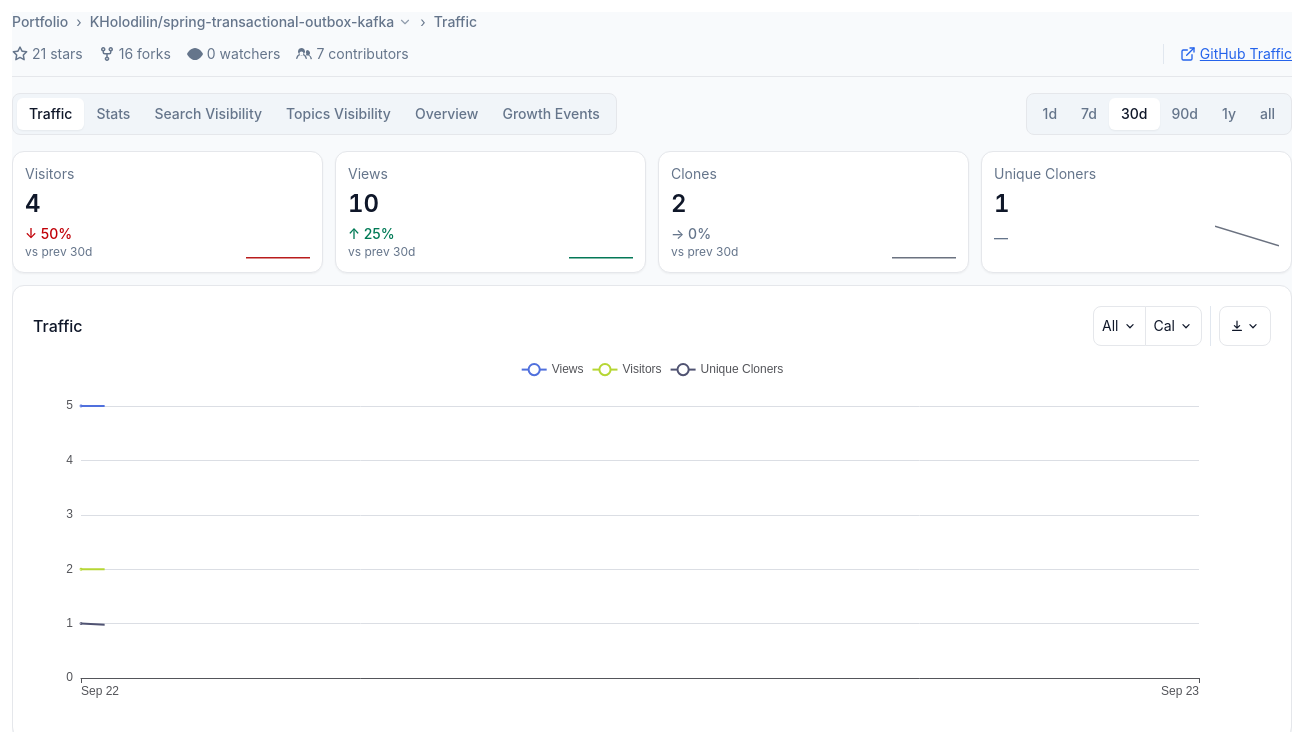
Scenario: remaining coverage edges › covers partial collection jobs and a failed growth-event load
Expected: the link "GitHub Traffic" is shown, [1180,44,1292,64]
Click the button "Overview".
click(447, 114)  # box [403,98,490,130]
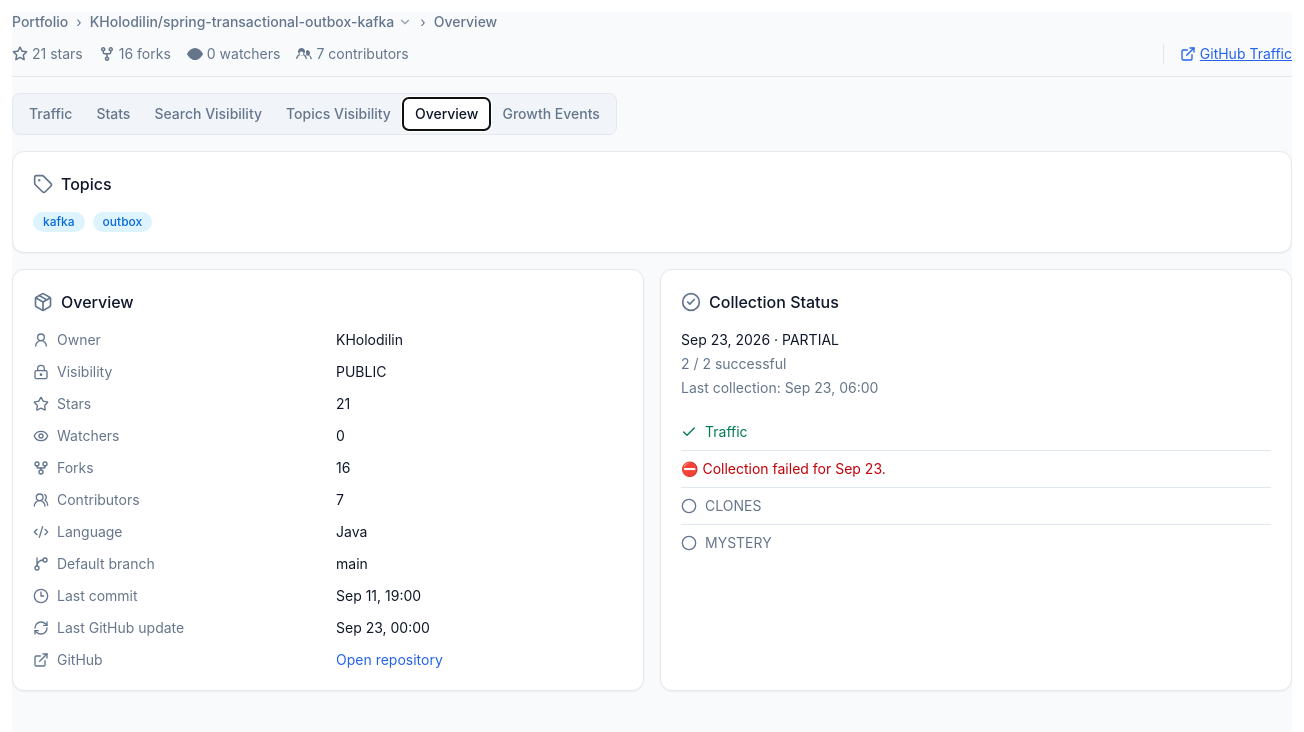
Expected: the text "MYSTERY" is shown, [705,533,772,553]
Click the button "Search Visibility".
click(208, 114)  # box [142,98,274,130]
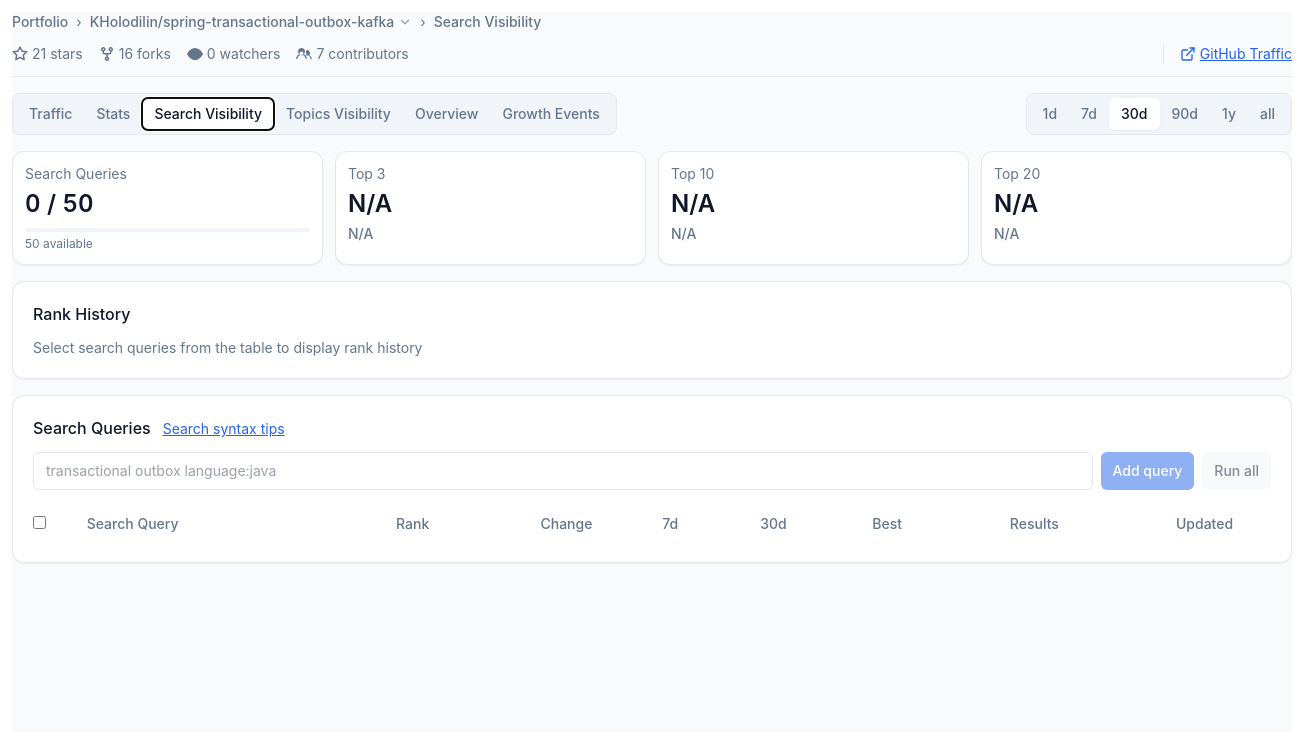
Expected: the heading "Search Queries" is shown, [33,416,151,440]
Click the button "Topics Visibility".
click(338, 114)  # box [274,98,403,130]
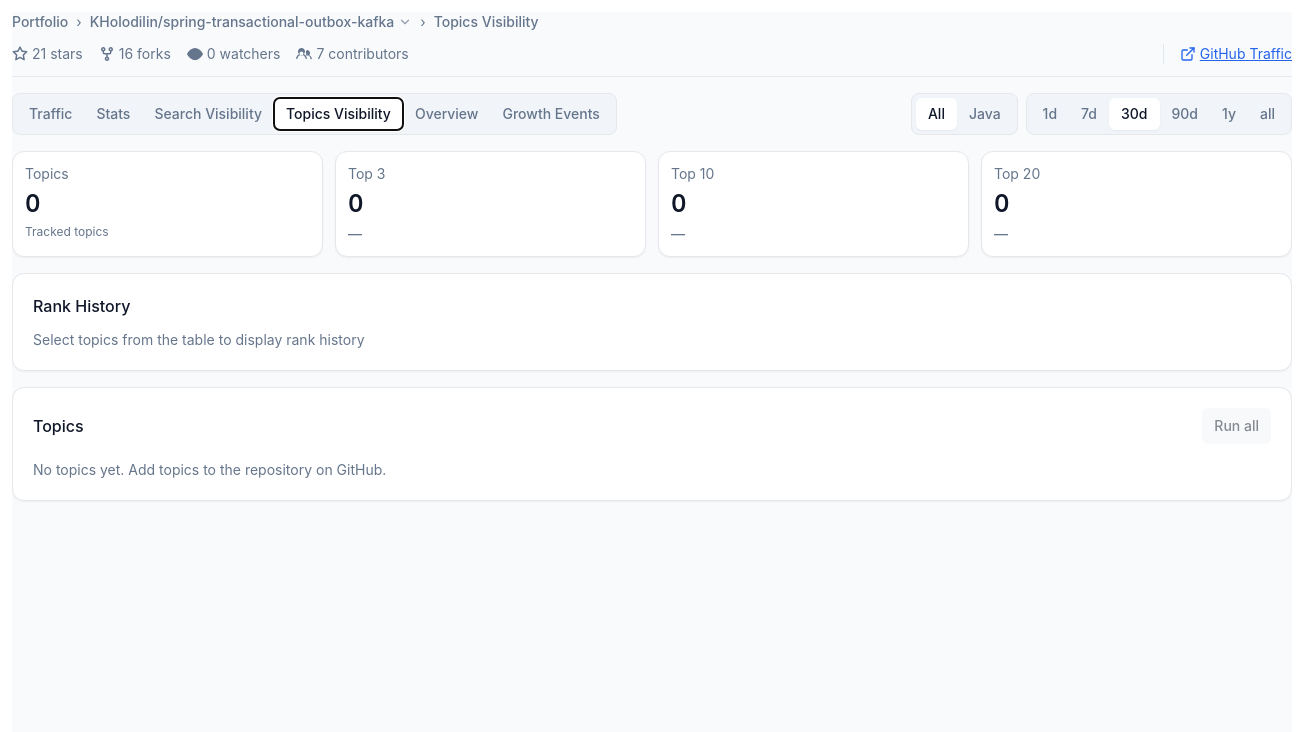
Expected: the text "No topics yet. Add topics to the repository on GitHub." is shown, [33,461,386,478]
Click the button "Growth Events".
click(551, 114)  # box [490,98,612,130]
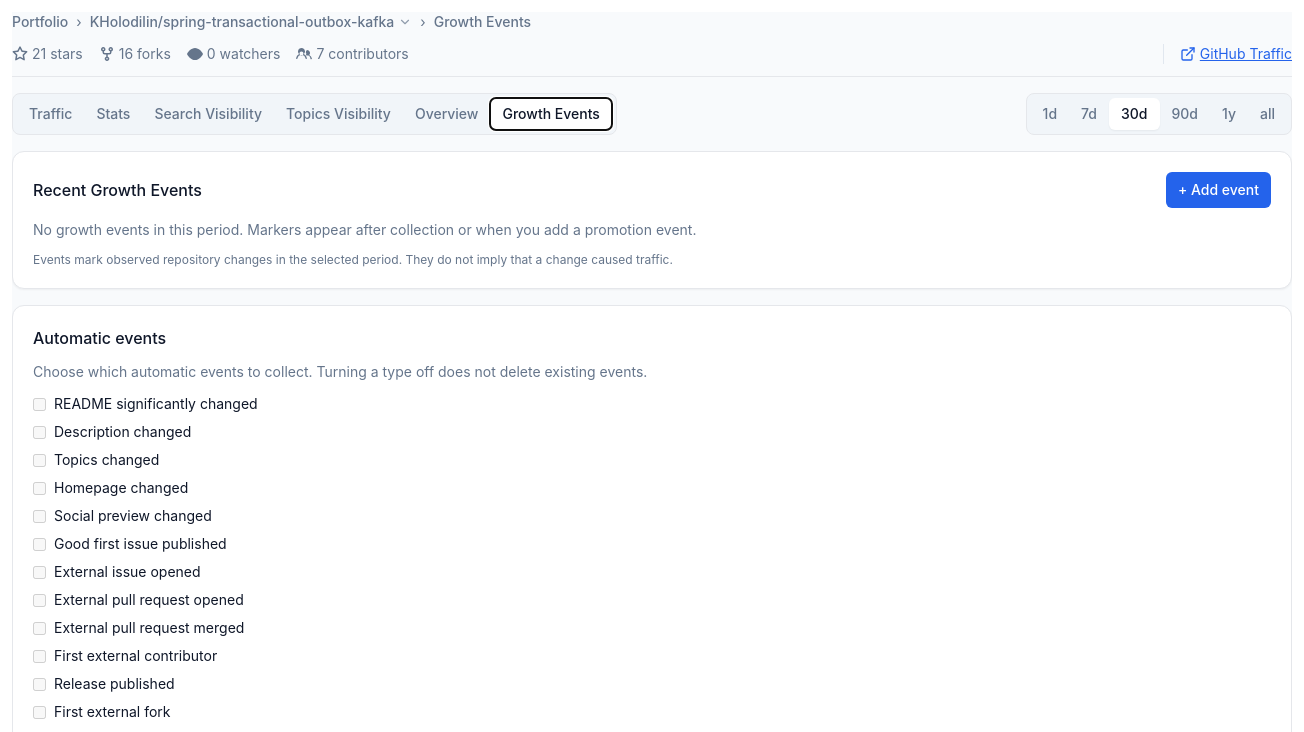
Expected: the text "No growth events" is shown, [33,221,696,238]
